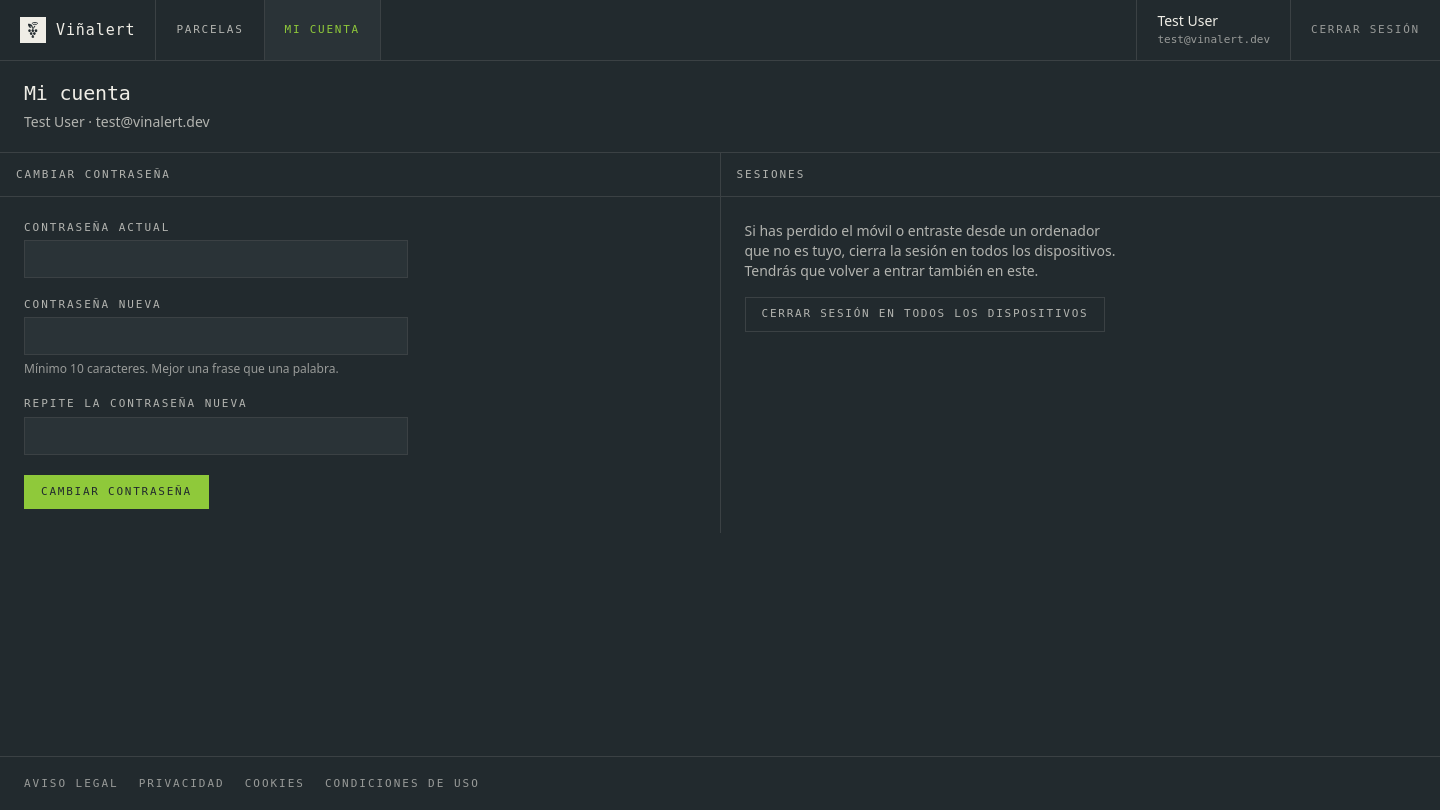
Test: cambiar la contraseña lo confirma
Type "clave12345" into the password field labelled "Contraseña actual" at (216,259), box [24,240,408,278]
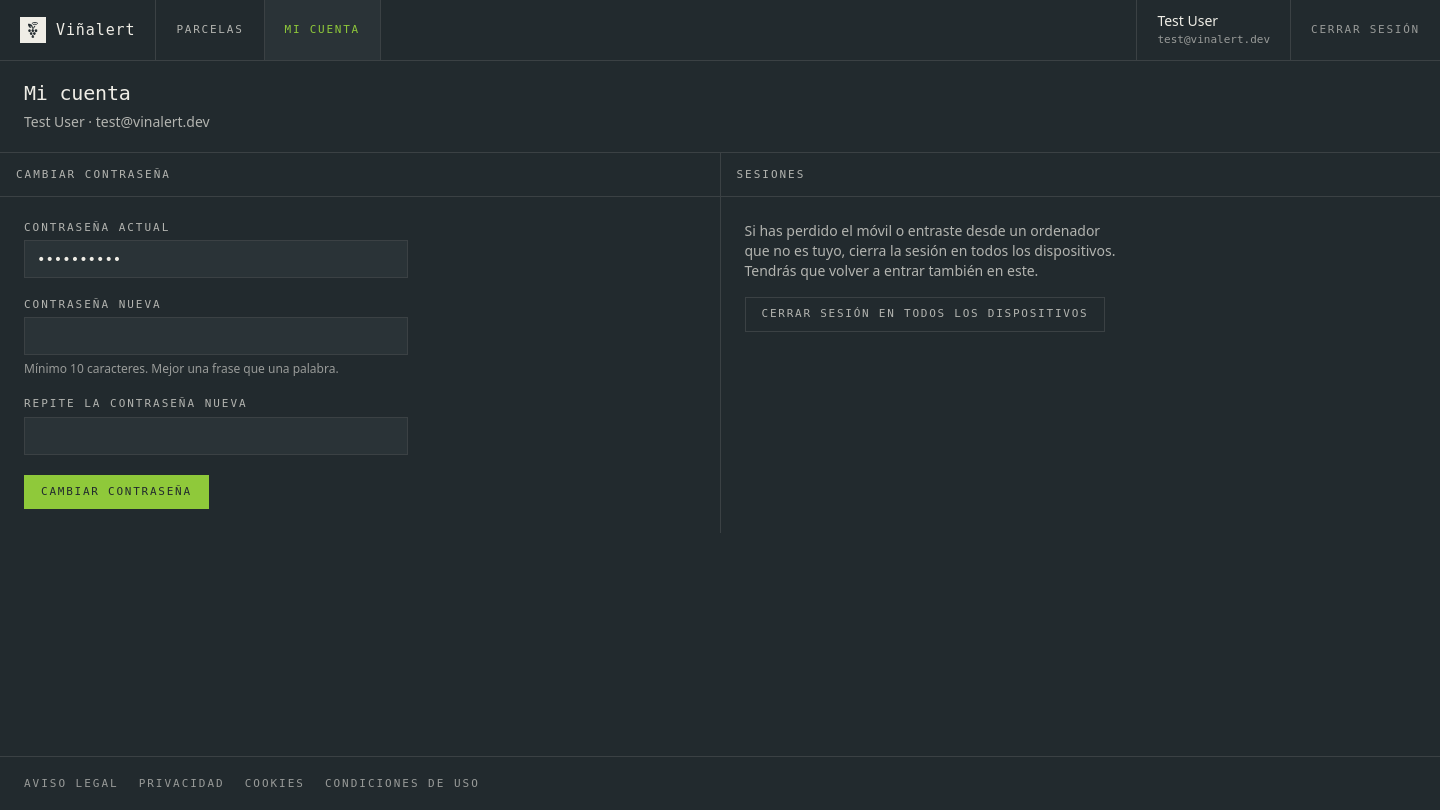
Type "cepas-de-albariño" into the password field labelled "Contraseña nueva" at (216,336), box [24,317,408,355]
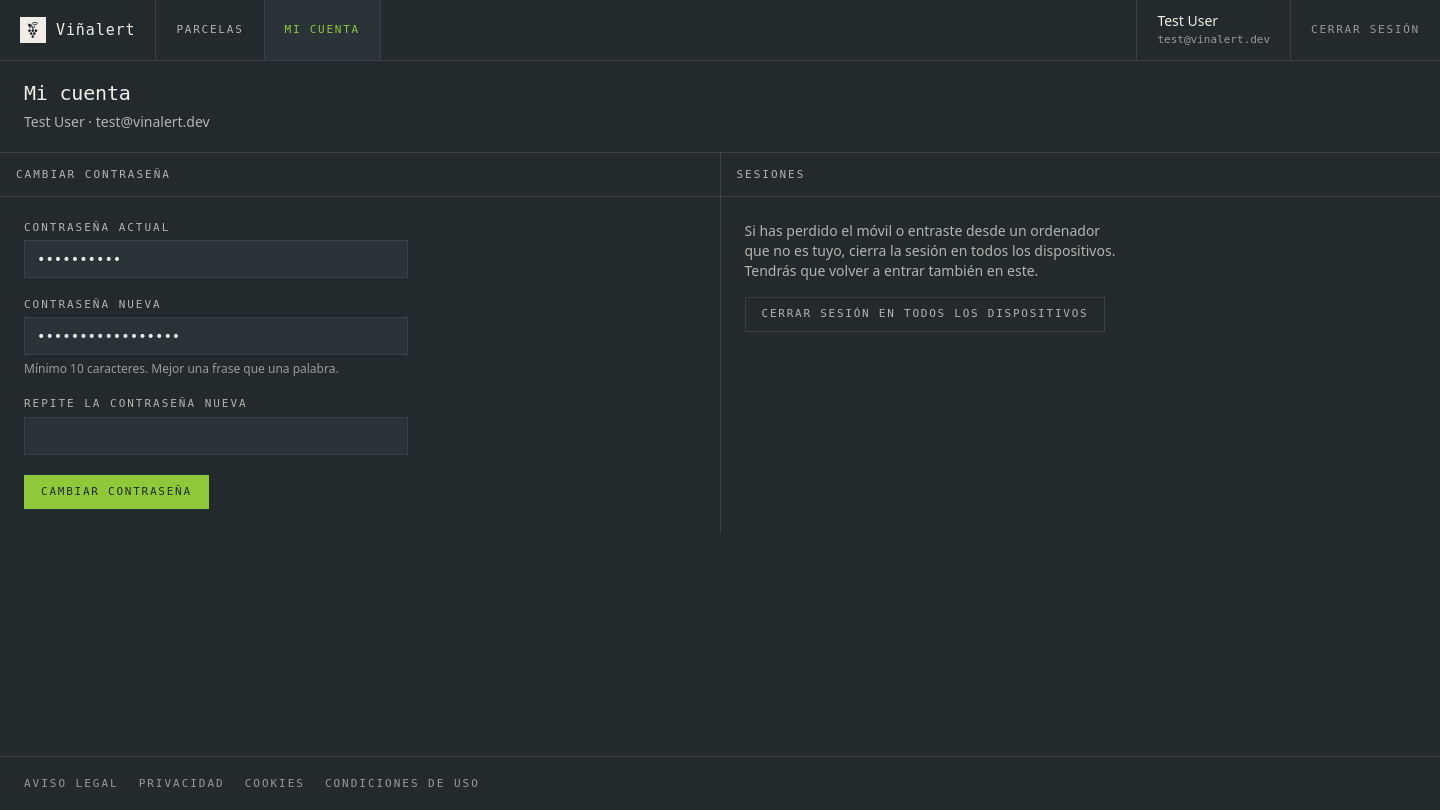
Type "cepas-de-albariño" into the password field labelled "Repite la contraseña nueva" at (216,436), box [24,417,408,455]
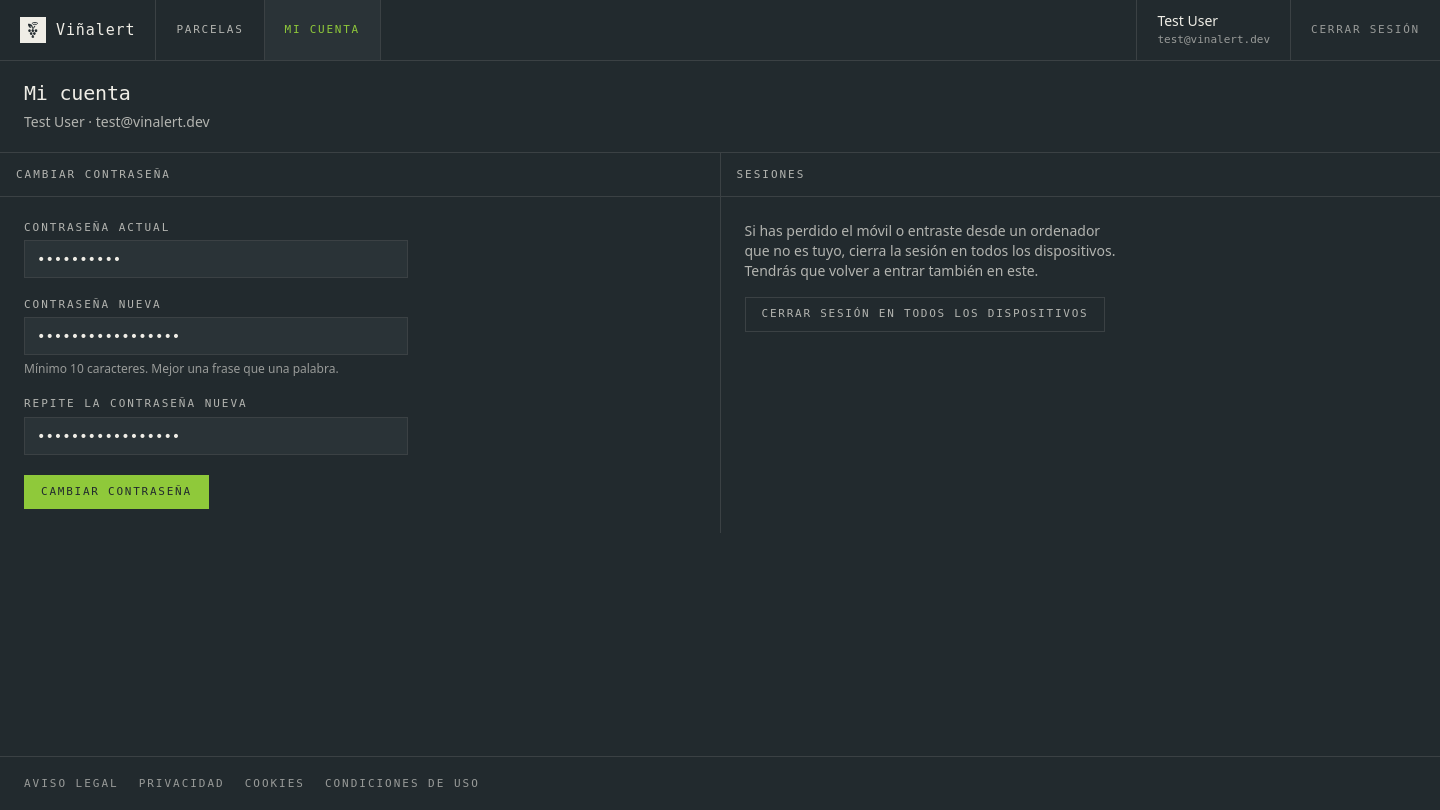
Click the button "Cambiar contraseña" at (116,492), box [24,475,209,509]
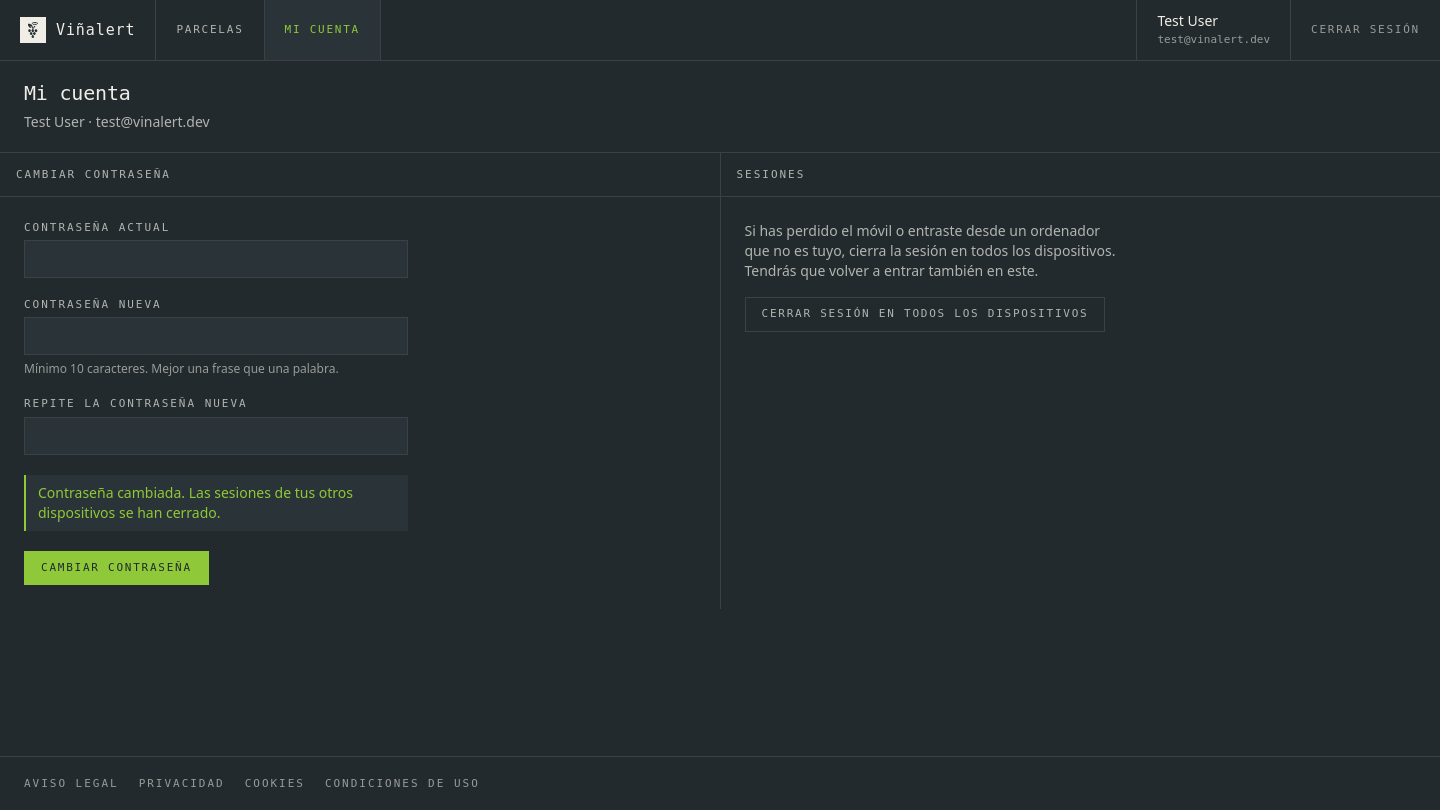
Now the text "Contraseña cambiada. Las sesiones de tus otros dispositivos se han cerrado." is shown, box [24,475,408,531]
